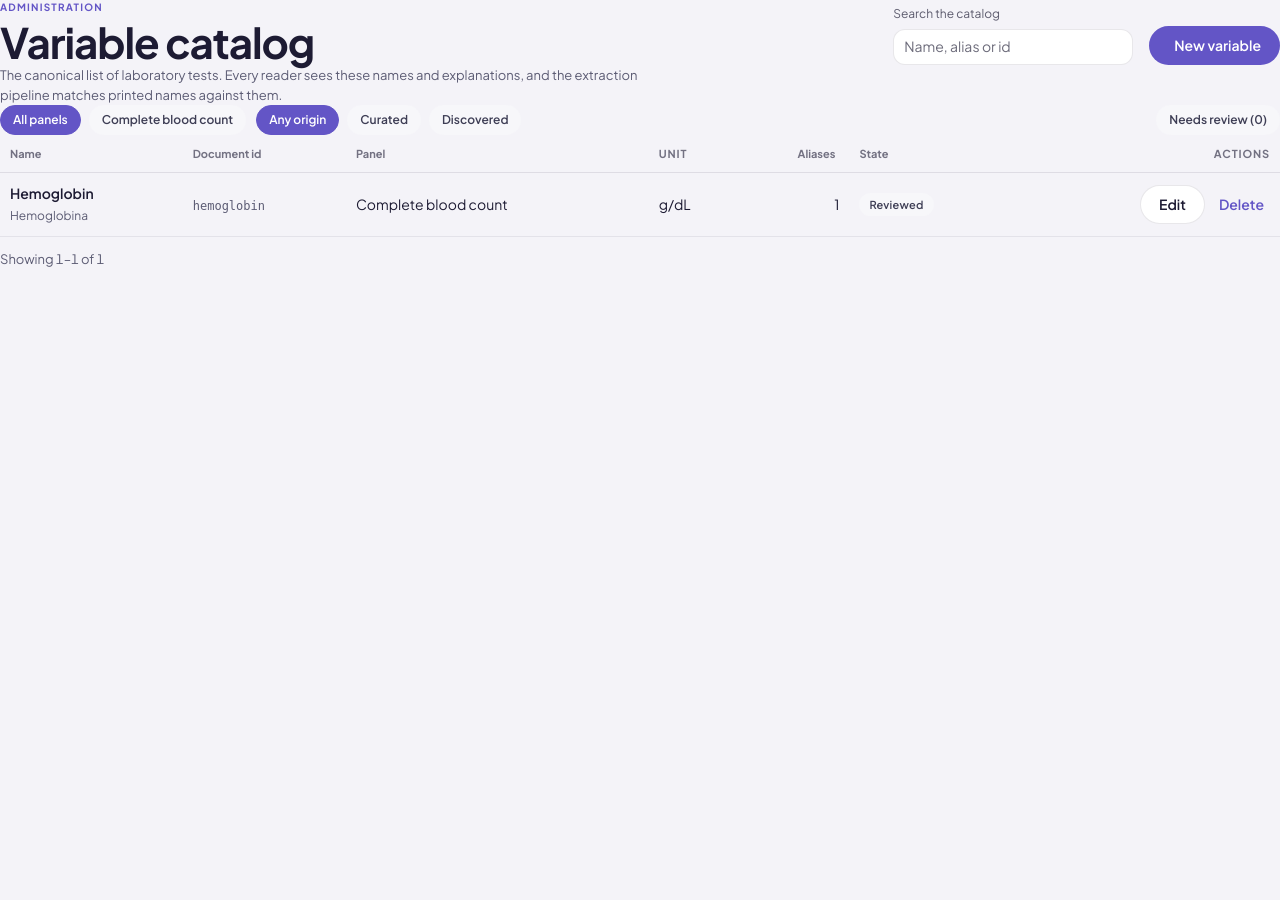
Scenario: deleting a variable › says what goes, what stays and that it can come back
Click the button with aria-label "Delete Hemoglobin" at (1241, 205), box [1213,185,1270,224]
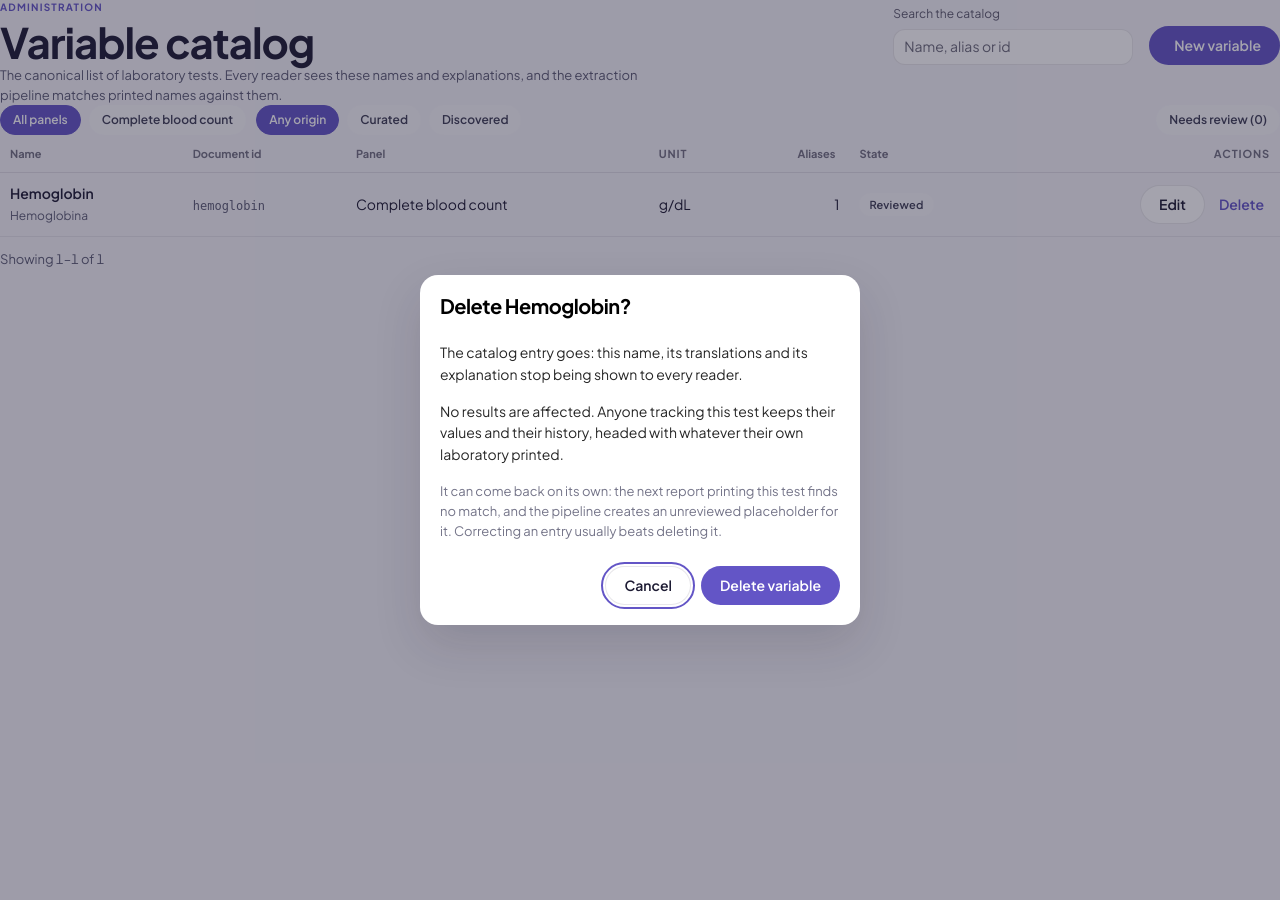
expect the text "No results are affected" is shown: met, box [440,402,835,463]
expect the text "It can come back on its own" is shown: met, box [440,483,838,539]
